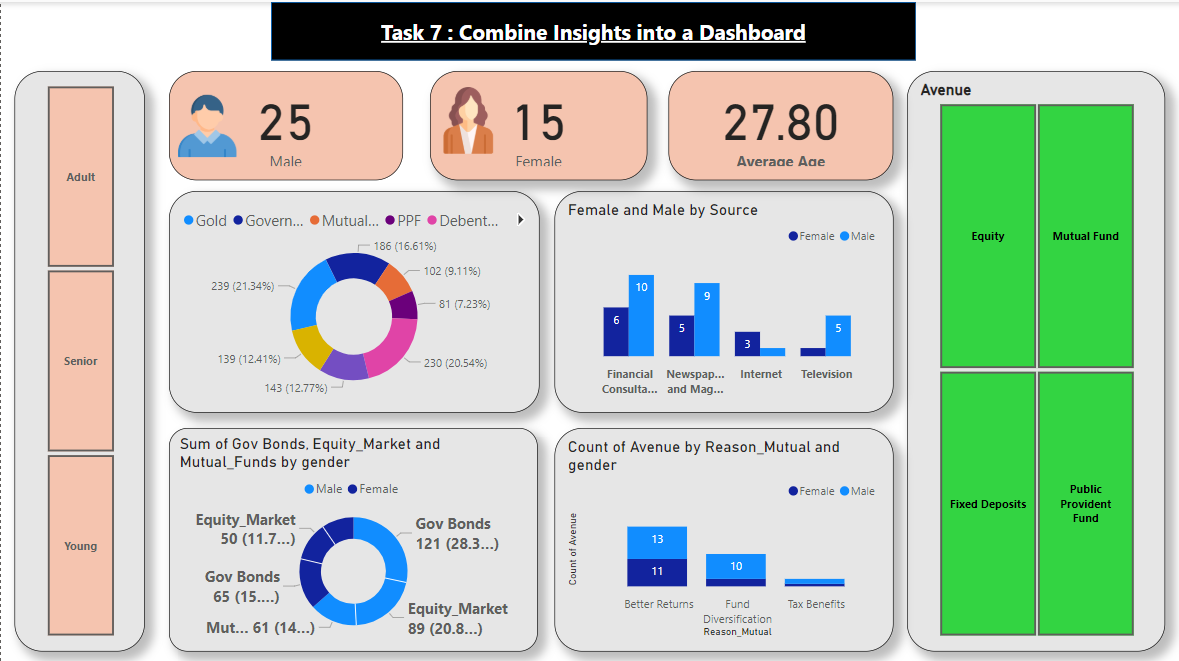

Layout of this report page (visuals, bound fields, positions):
{"tool":"powerbi","page":{"name":"Task 7","canvas":[1280,720],"ordinal":6},"visuals":[{"type":"slicer","title":"Avenue","fields":{"Values":["Data_set 2.Avenue"]},"box":[978,74.5,278.5,626.6],"z":0},{"type":"slicer","fields":{"Values":["Data_set 2.Age calculation"]},"box":[14.6,74.5,140.9,626.6],"z":1000},{"type":"donutChart","fields":{"Y":["Sum(Data_set 2.Gold)","Sum(Data_set 2.Government_Bonds)","Sum(Data_set 2.Mutual_Funds)","Sum(Data_set 2.PPF)","Sum(Data_set 2.Debentures)","Sum(Data_set 2.Fixed_Deposits)","Sum(Data_set 2.Equity_Market)"]},"box":[181.4,204,399.9,239.6],"z":2000},{"type":"clusteredColumnChart","fields":{"Category":["Data_set 2.Source"],"Y":["My Measures.Female","My Measures.Male"]},"box":[597.5,204,365.9,239.6],"z":3000},{"type":"donutChart","title":"Sum of Gov Bonds, Equity_Market and Mutual_Funds by gender","fields":{"Category":["Data_set 2.gender"],"Y":["Sum(Data_set 2.Government_Bonds)","Sum(Data_set 2.Equity_Market)","Sum(Data_set 2.Mutual_Funds)"]},"box":[181.4,459.9,398.3,241.3],"z":4000},{"type":"columnChart","fields":{"Category":["Data_set 2.Reason_Mutual","Data_set 2.Reason_Equity","Data_set 2.Reason_FD","Data_set 2.Reason_Bonds"],"Y":["CountNonNull(Data_set 2.Avenue)"],"Series":["Data_set 2.gender"]},"box":[597.5,459.9,365.9,241.3],"z":5000},{"type":"card","fields":{"Values":["My Measures.Male"]},"box":[181.4,74.5,252.6,118.2],"z":6000},{"type":"card","fields":{"Values":["My Measures.Female"]},"box":[463.1,74.5,234.8,118.2],"z":7000},{"type":"image","box":[463.1,74.5,82.6,106.9],"z":8000},{"type":"image","box":[181.4,85.8,82.6,95.5],"z":9000},{"type":"card","fields":{"Values":["My Measures.Average Age"]},"box":[720.6,74.5,242.9,118.2],"z":10000},{"type":"shape","box":[291.9,0,696.3,63.1],"z":11000}]}

Visuals, with their boxes in screenshot pixels (x1, y1, x2, y2), scaled from the page's 1280x720 canvas onto the 1179x661 screenshot:
"Avenue" slicer: <region>901, 68, 1157, 644</region>
slicer - Data_set 2.Age calculation: <region>13, 68, 143, 644</region>
donutChart - Sum(Data_set 2.Gold) x Sum(Data_set 2.Government_Bonds): <region>167, 187, 535, 407</region>
clusteredColumnChart - Data_set 2.Source x My Measures.Female: <region>550, 187, 887, 407</region>
"Sum of Gov Bonds, Equity_Market and Mutual_Funds by gender" donutChart: <region>167, 422, 534, 644</region>
columnChart - Data_set 2.Reason_Mutual x Data_set 2.Reason_Equity: <region>550, 422, 887, 644</region>
card - My Measures.Male: <region>167, 68, 400, 177</region>
card - My Measures.Female: <region>427, 68, 643, 177</region>
image: <region>427, 68, 503, 167</region>
image: <region>167, 79, 243, 166</region>
card - My Measures.Average Age: <region>664, 68, 887, 177</region>
shape: <region>269, 0, 910, 58</region>
